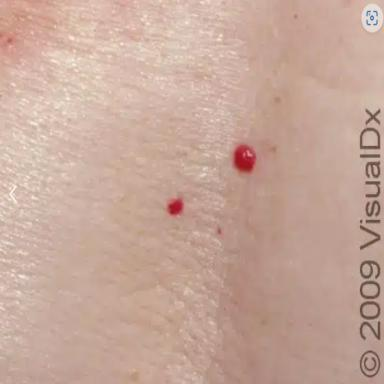Hemangiome: (234, 145, 257, 171), (169, 200, 184, 214)
